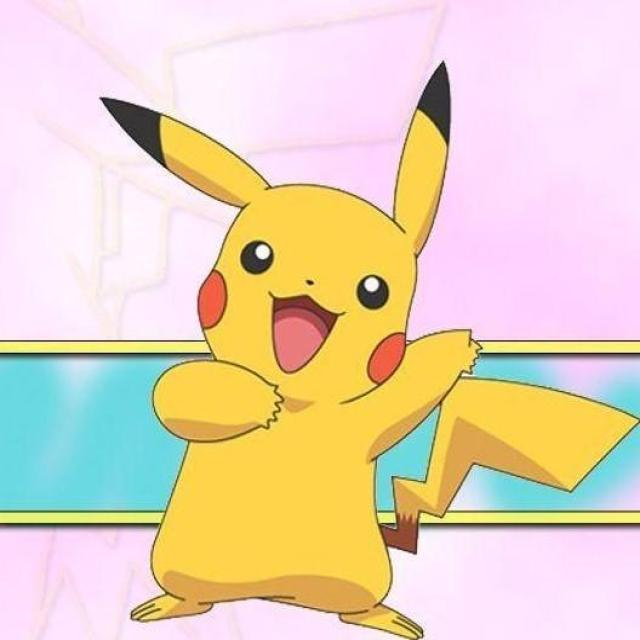pikachu: (102, 64, 633, 630)
